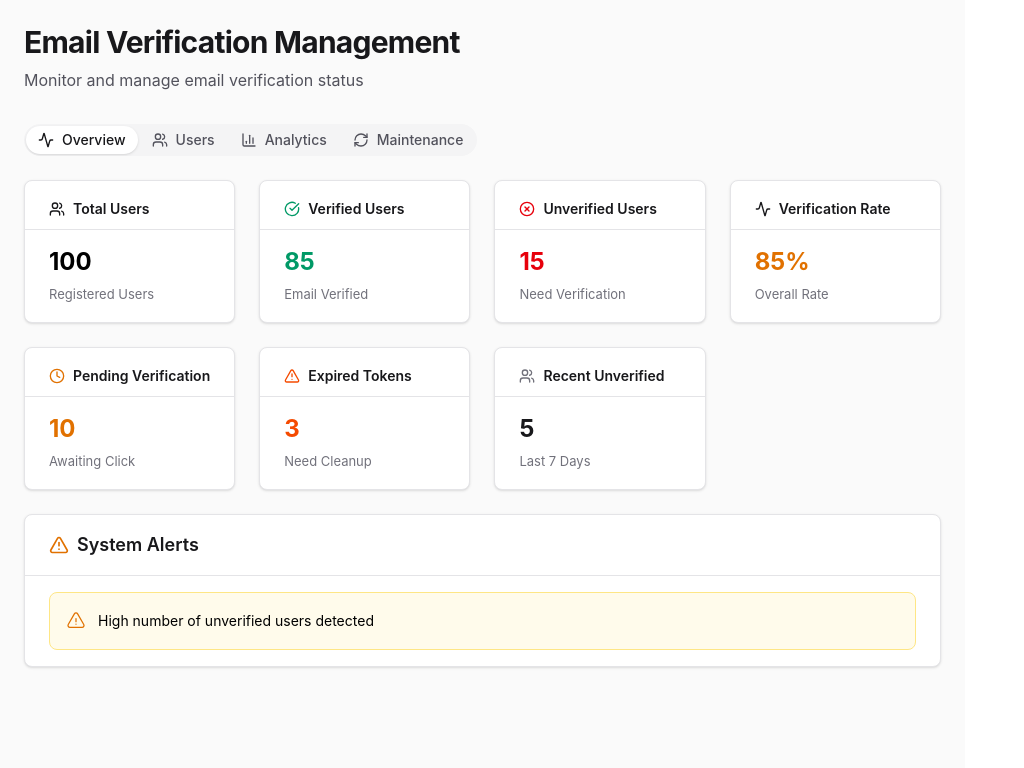
it: EmailVerificationManagement › Analytics Tab › should display declining trend badge
Check: the heading "Total Users" is shown, box [49,200,149,217]
Click the button "Analytics": coordinates (284, 140) [229,126,339,154]
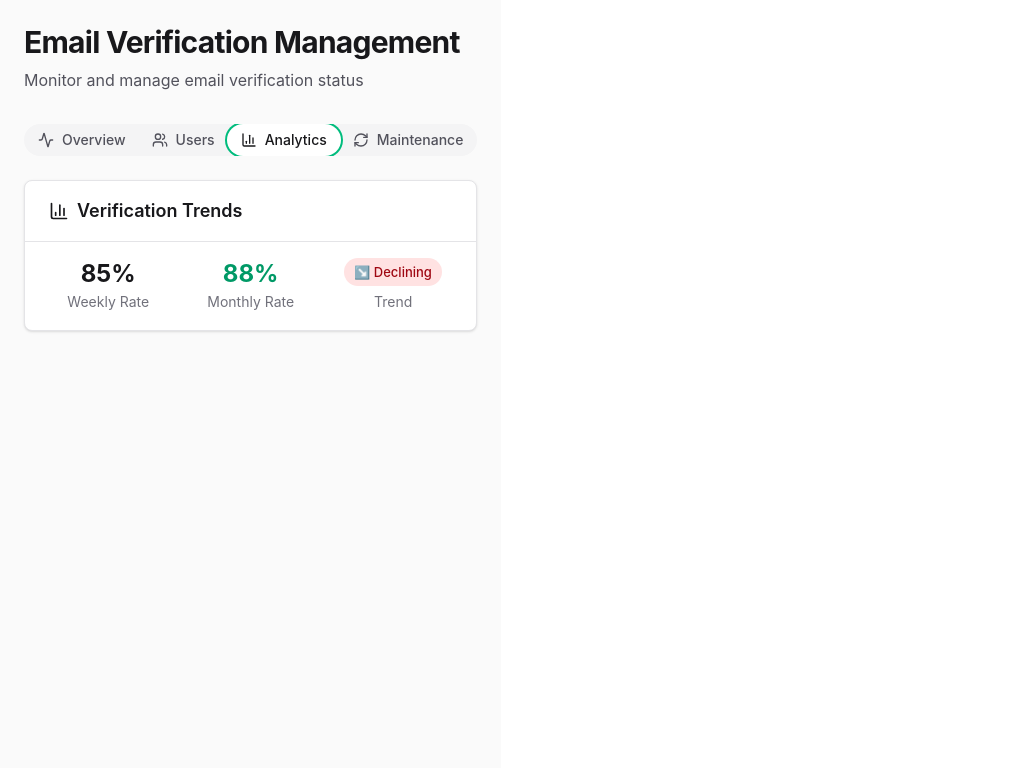
Check: the text "↘️ Declining" is shown, box [344,258,442,286]
